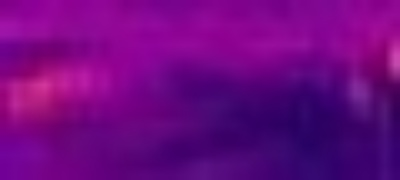Shadow: (124, 64, 400, 180)
